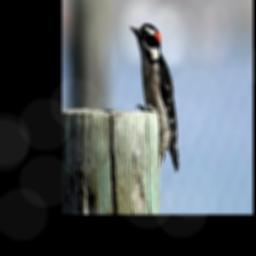Woodpecker: (129, 22, 180, 170)
